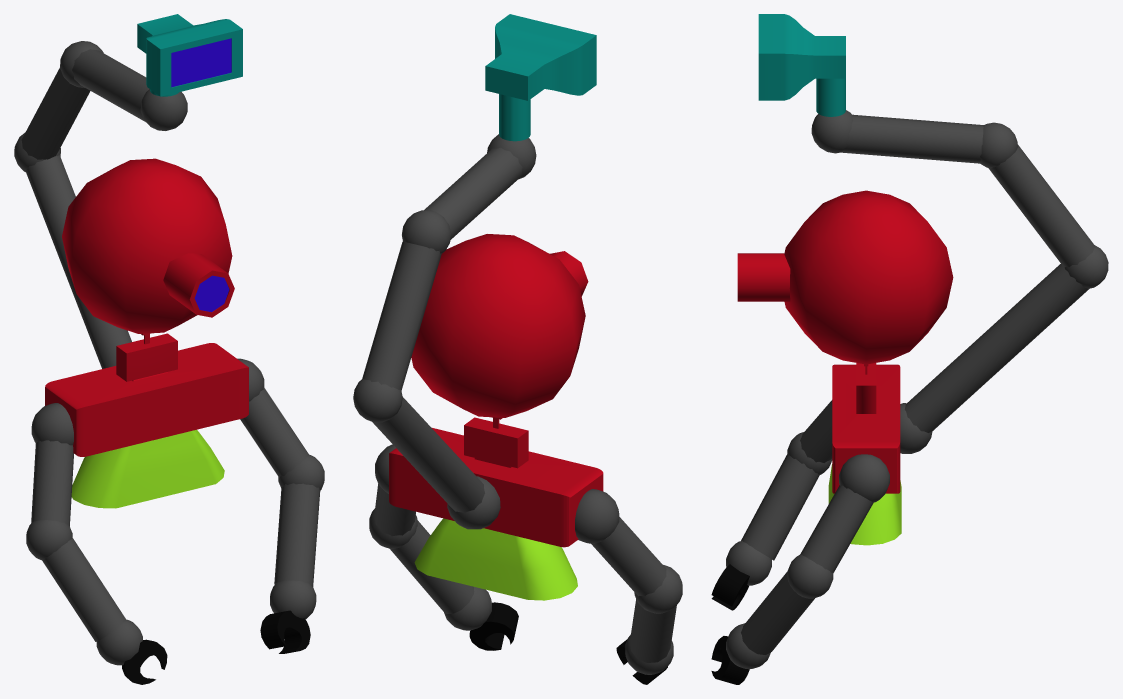
Rendered from enemy.fbx.
3 renders of one model, left to right at view 1: azimuth 30°, elevation 25°; view 2: azimuth 150°, elevation 25°; view 3: azimuth 270°, elevation 25°, orthographic. The views are drawn at different scales.
Parts seen in each view (by area): view 1: Sphere, Cube, Sphere.005, Sphere.002, Sphere.001, Sphere.006, Cube.001, Cylinder, Cube.002, Cylinder.002, Cylinder.003, Cylinder.001; view 2: Sphere, Sphere.005, Cube, Cube.001, Sphere.002, Sphere.006, Sphere.001, Cylinder.002, Cylinder; view 3: Sphere.005, Sphere, Sphere.001, Cube, Sphere.002, Cube.001, Cylinder, Sphere.006, Cylinder.003, Cylinder.002.
Boxes of the visible parts, x1,y1,x2,y2 form: Sphere: [62, 158, 232, 333]; Cube: [45, 333, 248, 456]; Sphere.005: [14, 41, 187, 368]; Sphere.002: [26, 403, 142, 665]; Sphere.001: [237, 358, 324, 619]; Sphere.006: [71, 429, 224, 508]; Cube.001: [137, 14, 242, 96]; Cylinder: [163, 253, 234, 317]; Cube.002: [171, 38, 231, 87]; Cylinder.002: [260, 610, 310, 653]; Cylinder.003: [122, 639, 167, 684]; Cylinder.001: [194, 275, 229, 312]; Sphere: [411, 234, 585, 417]; Sphere.005: [353, 134, 536, 529]; Cube: [389, 417, 603, 547]; Cube.001: [485, 14, 596, 141]; Sphere.002: [575, 489, 682, 674]; Sphere.006: [414, 518, 577, 600]; Sphere.001: [369, 444, 491, 630]; Cylinder.002: [469, 602, 518, 650]; Cylinder: [550, 251, 588, 296]; Sphere.005: [811, 110, 1108, 453]; Sphere: [784, 190, 953, 364]; Sphere.001: [726, 454, 889, 669]; Cube: [832, 363, 900, 493]; Sphere.002: [726, 400, 832, 585]; Cube.001: [758, 14, 845, 116]; Cylinder: [737, 253, 790, 301]; Sphere.006: [828, 464, 901, 545]; Cylinder.003: [711, 564, 749, 610]; Cylinder.002: [711, 636, 749, 684].
Bounding box in the file's own units: 258 × 525 × 307.
